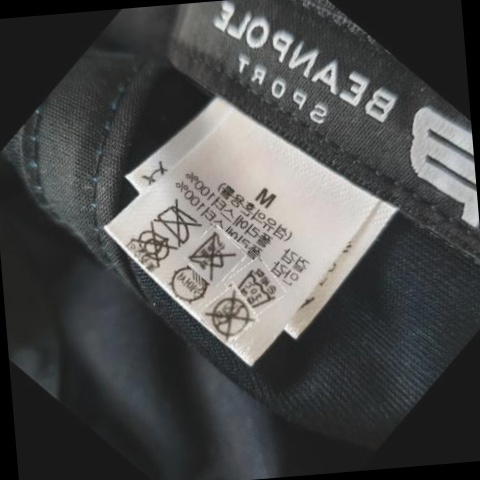DN_bleach: (189, 235, 232, 276)
DN_dry_clean: (207, 293, 249, 343)
DN_iron: (154, 207, 202, 244)
dry_flat_in_shade: (168, 266, 209, 307)
hand_wash: (235, 263, 282, 310)
